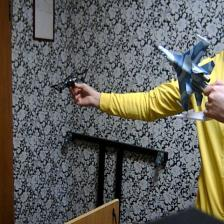drone: (44, 65, 92, 94)
